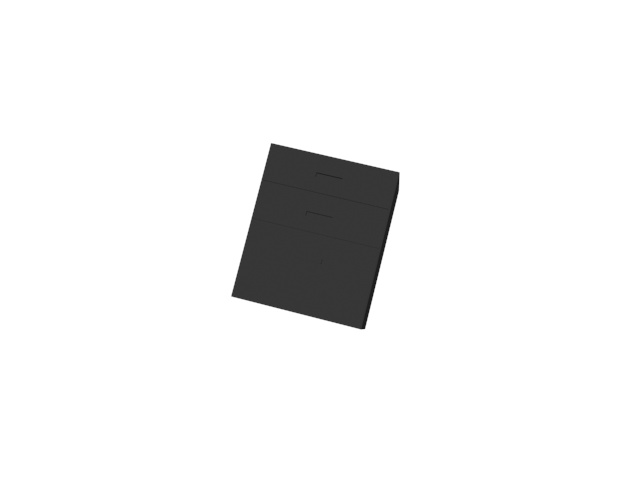file_cabinet: (225, 137, 400, 336)
